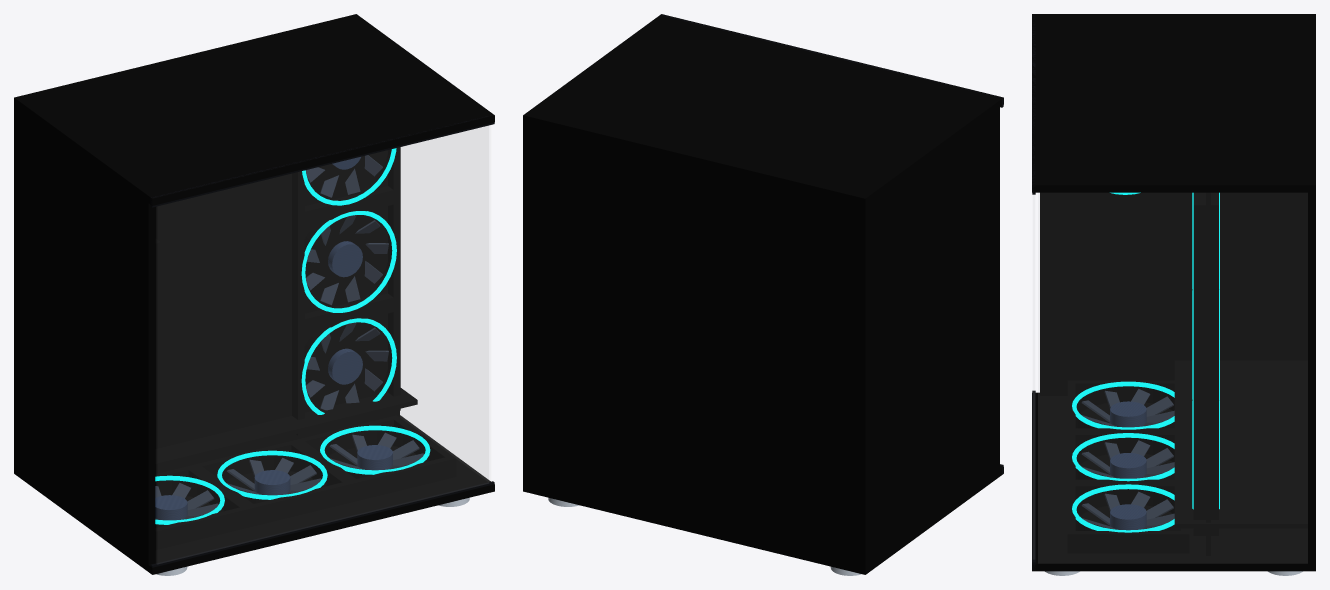
Rendered from hyte-y70-black.glb.
3 views of the same model, side by side, from view 1: azimuth 30°, elevation 25°; view 2: azimuth 150°, elevation 25°; view 3: azimuth 270°, elevation 25° (orthographic). The views are drawn at different scales.
Parts seen in each view (by area): view 1: ChassisTop, ChassisRearIO, MotherboardTray, ChassisBottom, SideFanBracketWall, PsuShroudDeck, BottomFan_2_BotBar, BottomFan_1_BotBar, BottomFan_0_BotBar, RGB_SideFan_1_FrontRing, ChassisBack, GlassBorder_Bottom (+26 smaller); view 2: ChassisBack, ChassisTop, ChassisRearIO, ChassisBottom, GlassBorder_Top; view 3: ChassisTop, ChassisRearIO, PsuShroudDeck, ChassisBottom, ChassisBack, BottomFan_2_RightBar, SideFan_0_RightBar, SideFan_1_RightBar, SideFan_2_RightBar, SideFanBracketWall, RGB_BottomFan_0_FrontRing, RGB_BottomFan_2_FrontRing (+18 smaller).
Part boxes in pixels (<box>): ChassisTop: <box>14,14,494,205</box>; ChassisRearIO: <box>18,108,155,564</box>; MotherboardTray: <box>155,173,311,473</box>; ChassisBottom: <box>14,415,494,574</box>; SideFanBracketWall: <box>287,150,399,437</box>; PsuShroudDeck: <box>155,388,417,468</box>; BottomFan_2_BotBar: <box>350,455,456,501</box>; BottomFan_1_BotBar: <box>247,480,353,526</box>; BottomFan_0_BotBar: <box>155,506,250,550</box>; RGB_SideFan_1_FrontRing: <box>301,211,396,312</box>; ChassisBack: <box>14,105,17,468</box>; GlassBorder_Bottom: <box>150,481,494,569</box>; ChassisBack: <box>523,122,869,567</box>; ChassisTop: <box>523,14,1003,205</box>; ChassisRearIO: <box>869,108,999,564</box>; ChassisBottom: <box>523,467,1003,574</box>; GlassBorder_Top: <box>660,14,1003,107</box>; ChassisTop: <box>1032,14,1315,192</box>; ChassisRearIO: <box>1040,192,1307,395</box>; PsuShroudDeck: <box>1174,360,1307,528</box>; ChassisBottom: <box>1032,392,1315,571</box>; ChassisBack: <box>1308,192,1315,563</box>; BottomFan_2_RightBar: <box>1075,531,1180,553</box>; SideFan_0_RightBar: <box>1193,212,1218,308</box>; SideFan_1_RightBar: <box>1193,323,1218,418</box>; SideFan_2_RightBar: <box>1193,433,1218,528</box>; SideFanBracketWall: <box>1206,192,1210,555</box>; RGB_BottomFan_0_FrontRing: <box>1072,381,1174,429</box>; RGB_BottomFan_2_FrontRing: <box>1072,484,1174,532</box>.
Size of the model in its own units: 4 by 4.32 by 2.8.
10 materials, 5 textured.
